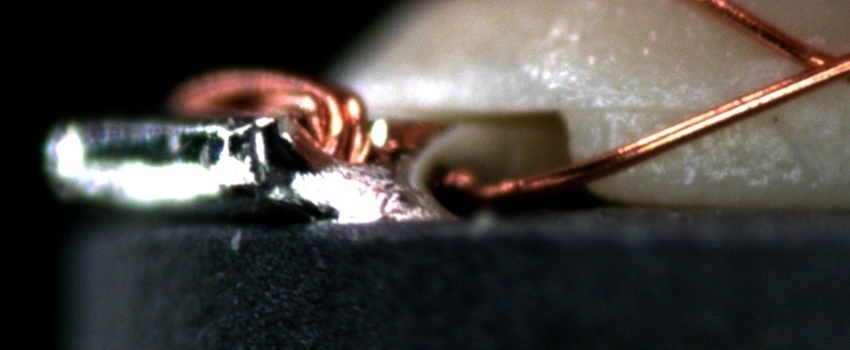CL: (776, 33, 847, 92)
DL: (575, 79, 747, 139)
TE: (164, 67, 372, 164)
